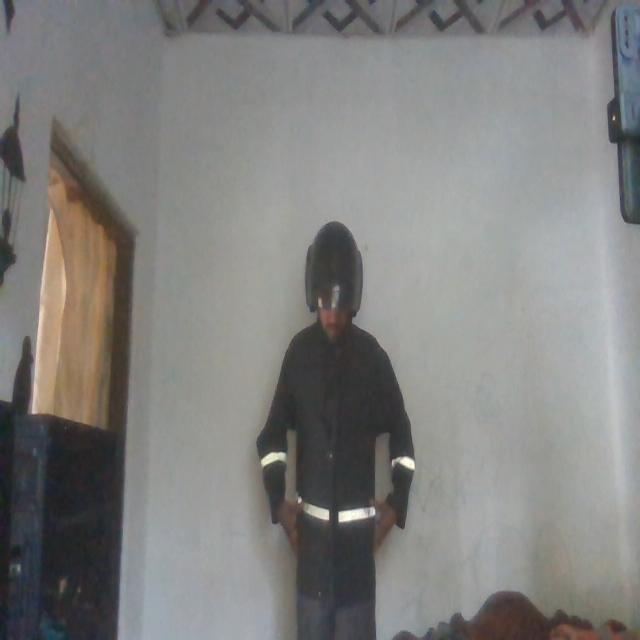Helmet_Wearer: (302, 218, 364, 348)
Jacket_Wearer: (260, 322, 418, 588)
Person: (259, 218, 414, 640)
